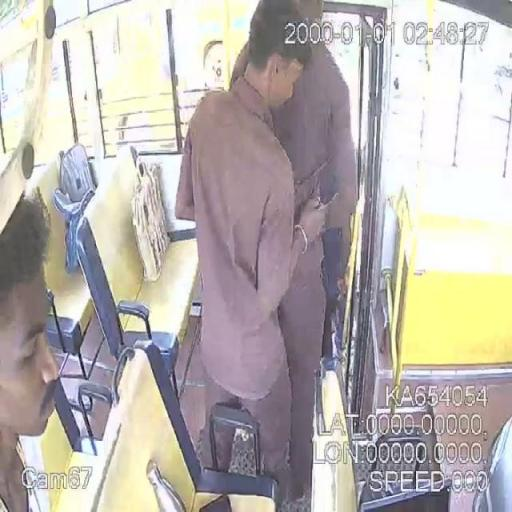persona: (174, 1, 336, 509), (0, 194, 61, 511)
